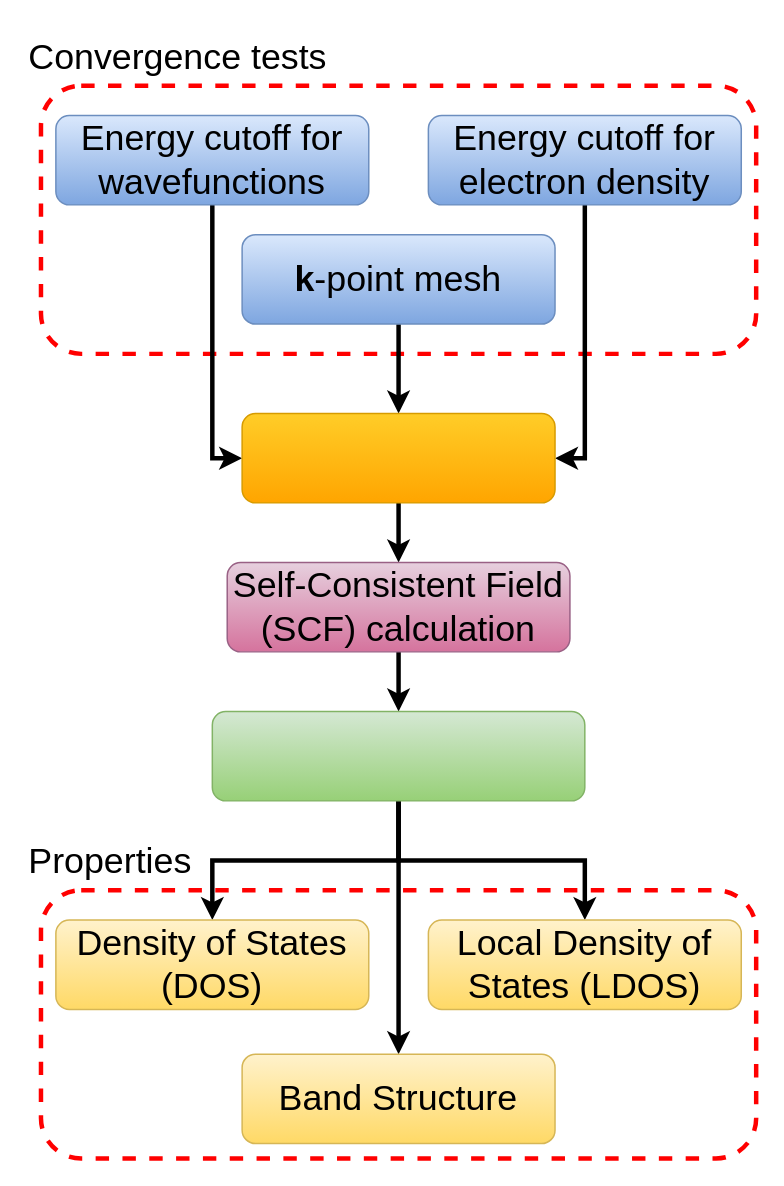
This 784x1186 diagram has some shape labels left out. Each missing label, with the centre of its shape:
"Non-Self-Consistent Field (SCF) calculation" belongs at point 398,755.
"Relaxation" belongs at point 398,457.
